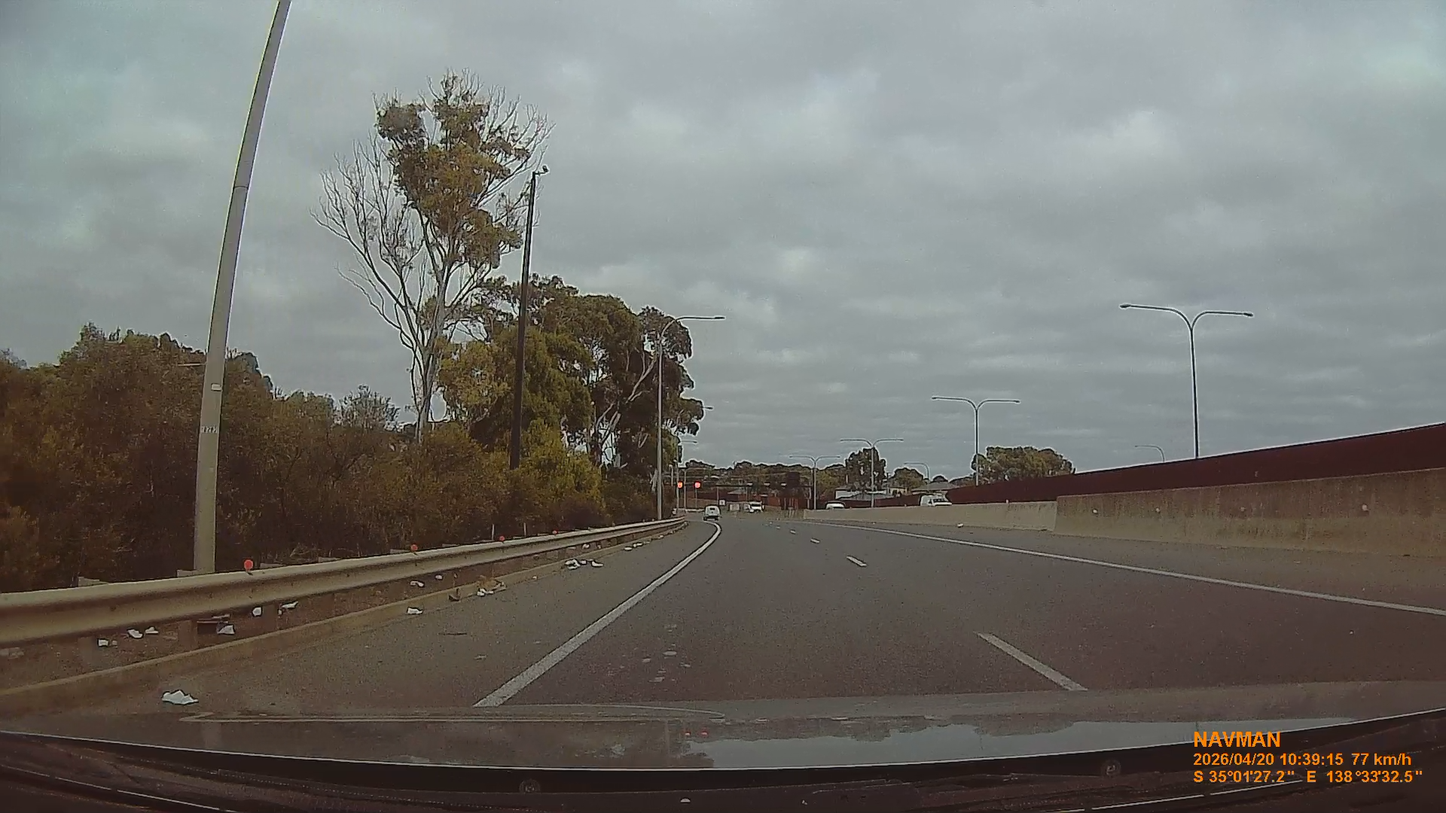road barriers: (0, 519, 687, 647), (1051, 470, 1445, 556)
